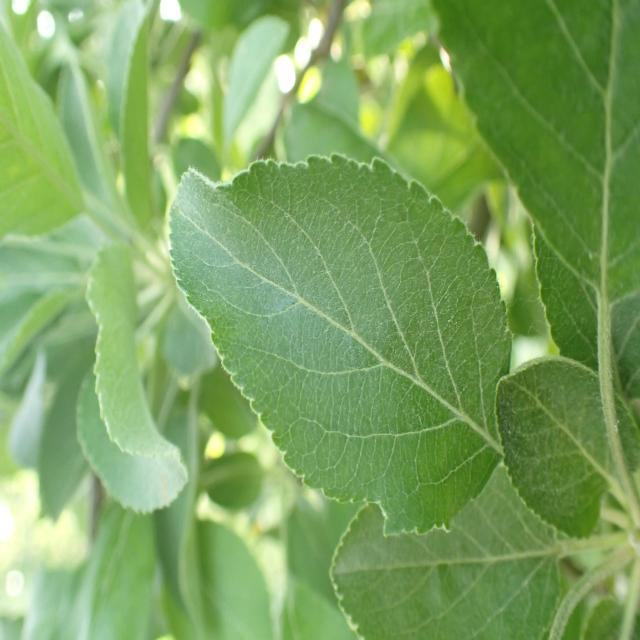healthy: (167, 153, 514, 538), (430, 0, 640, 474), (328, 460, 560, 640), (75, 243, 188, 513), (495, 356, 611, 540), (0, 8, 87, 241)
